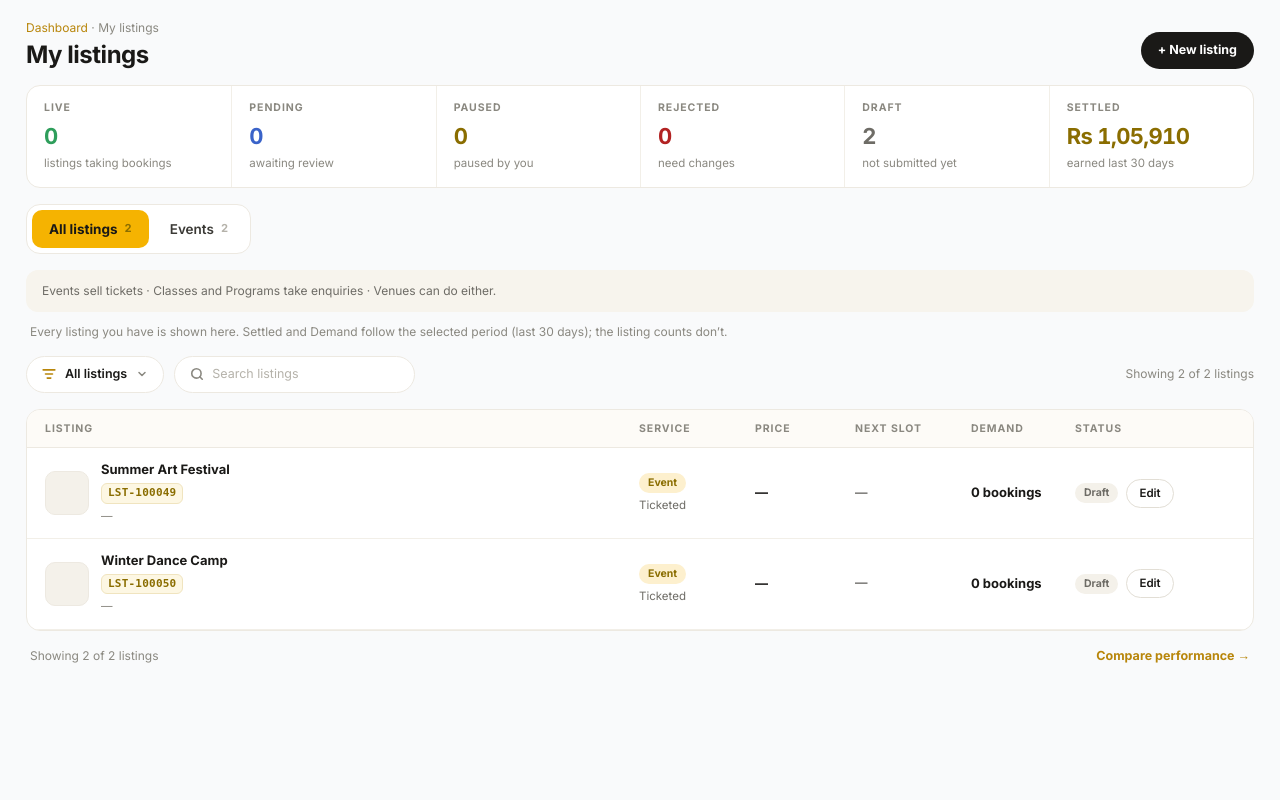
Test: ServiceListings — search › filters listings by title
Check: the text "Summer Art Festival" is shown, box [101,461,230,479]
Type "Winter" into the field with placeholder "Search listings" at (306, 374), box [212,365,399,384]
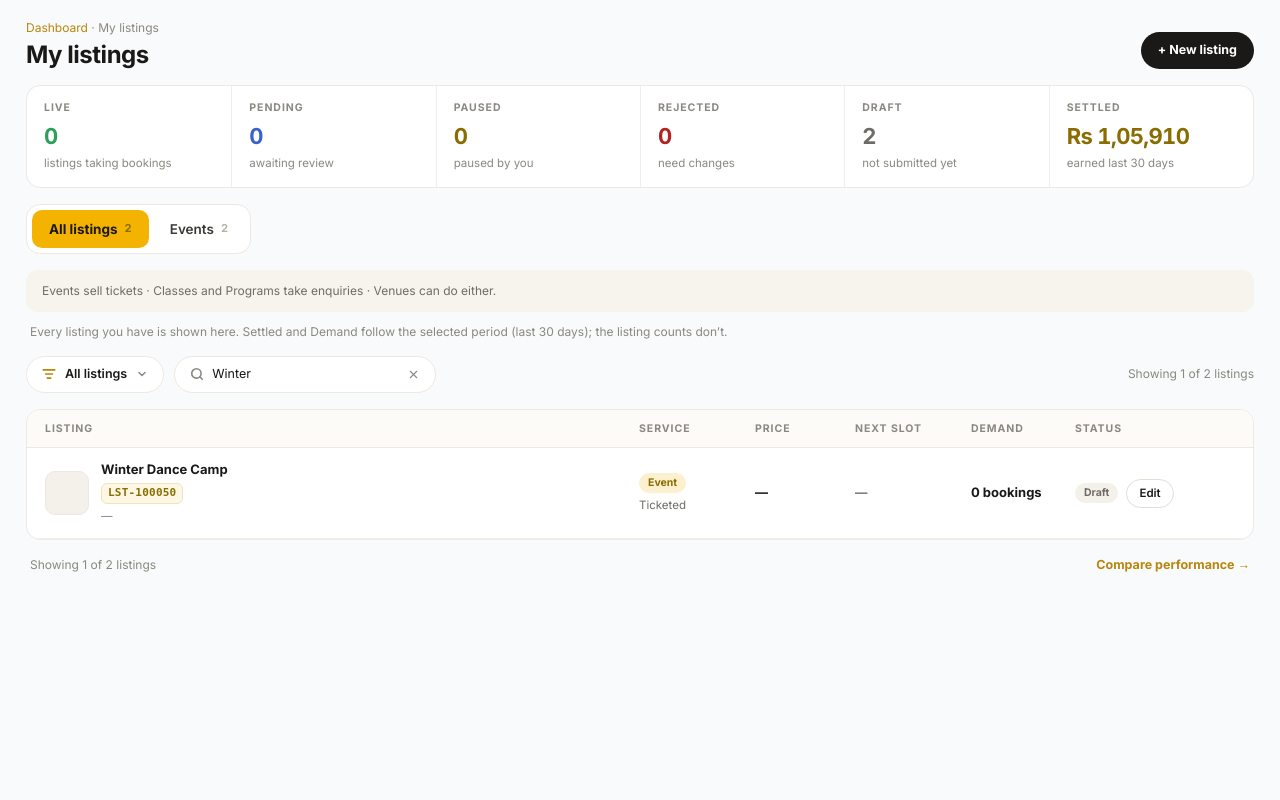
Check: the text "Winter Dance Camp" is shown, box [101,461,228,479]
Check: the button "Summer Art Festival" is gone
